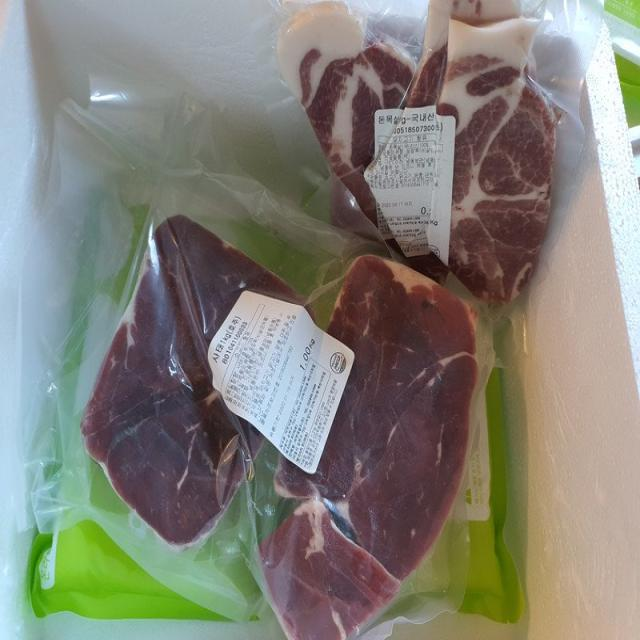beef: (316, 13, 546, 251), (101, 218, 270, 491), (358, 284, 457, 541)
